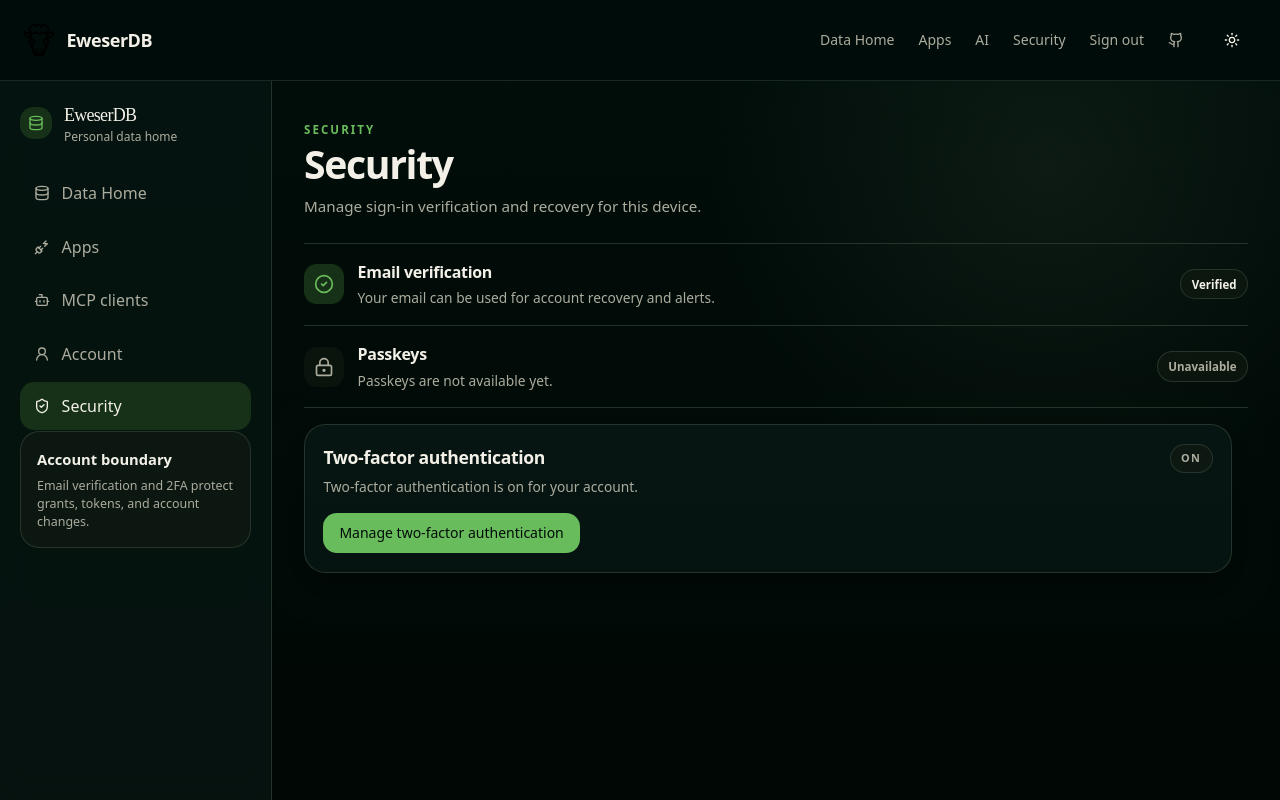
Scenario: auth-pages app › requires confirmation before replacing backup codes
Click the button "Manage two-factor authentication".
click(452, 534)  # box [323,514,580,554]
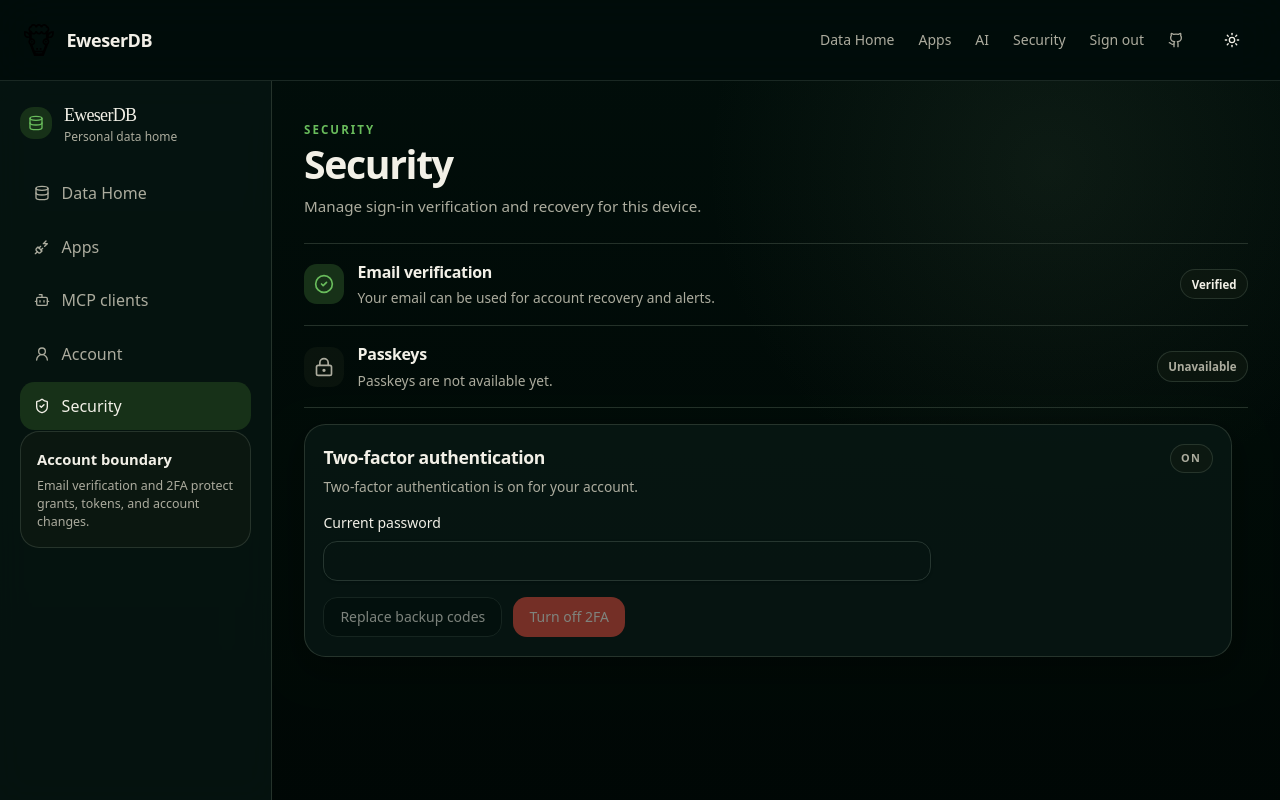
Type "password" into the password field labelled "Current password".
click(627, 562); type("password")  # box [323,542,931,582]
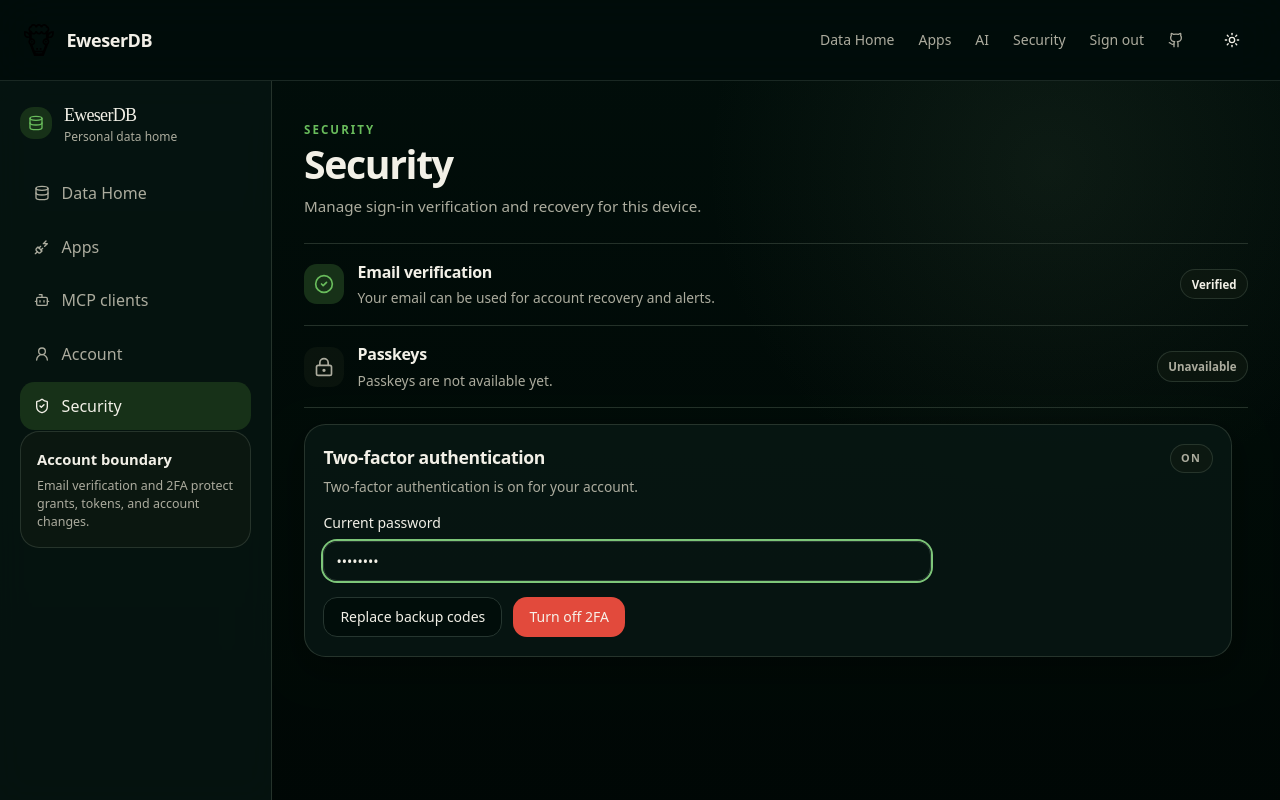
Click the button "Replace backup codes".
click(413, 618)  # box [323,598,502,638]
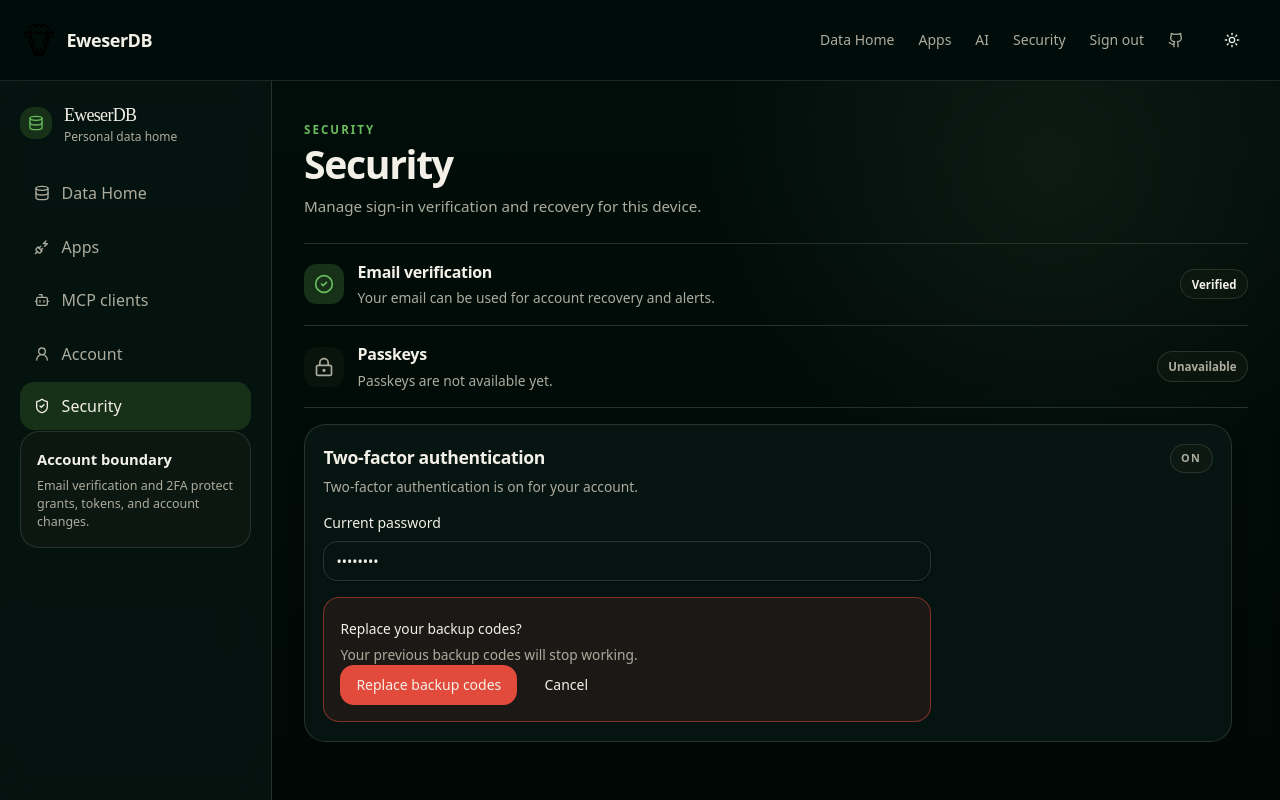
Expected: the button "Replace backup codes" is shown, [340,665,517,705]
Expected: the text "Replace your backup codes?" is shown, [340,619,522,638]
